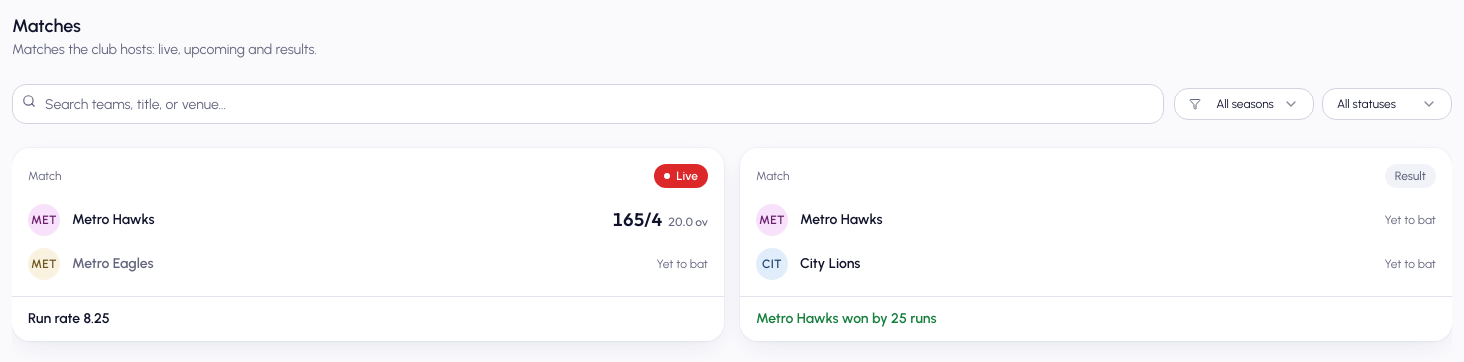
Scenario: ClubMatchesTab Component › filters matches by search query
In the field named "search matches": [588, 104] box [12,84,1164,124], type "City Lions"
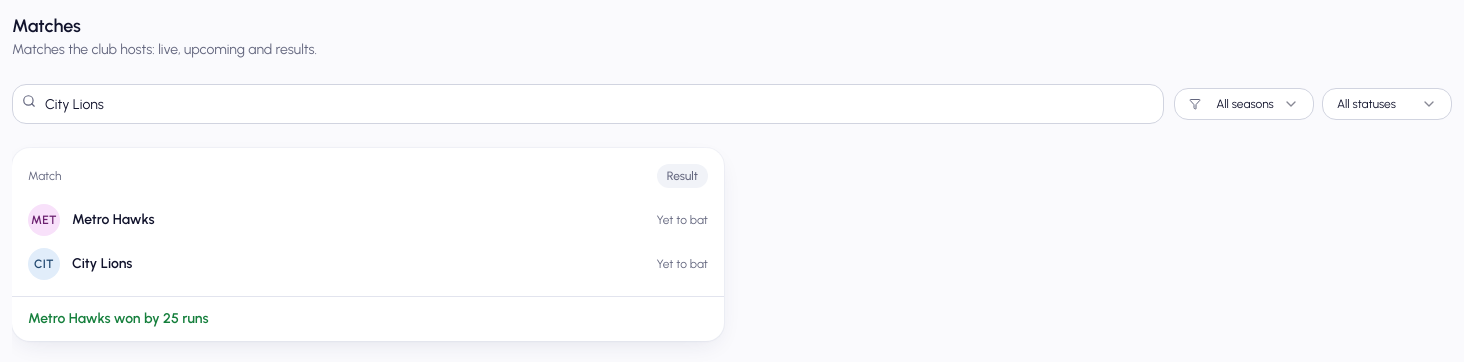
Expected: the text "City Lions" is shown, [72,255,132,272]
Expected: the link "Metro Eagles" is gone
